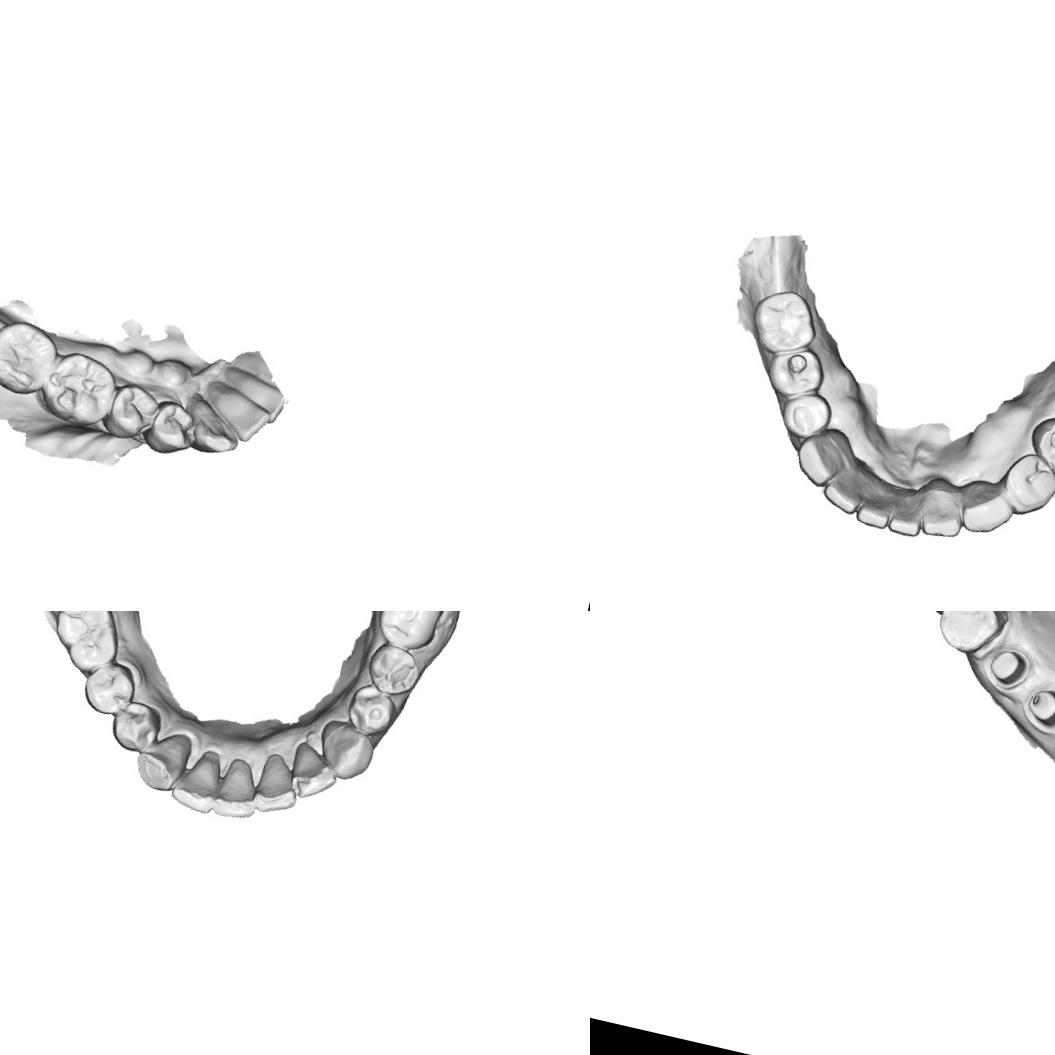abutment: (985, 645, 1030, 690), (1022, 683, 1055, 730)
canine: (130, 723, 196, 798), (177, 391, 248, 460), (310, 718, 382, 786), (956, 478, 1020, 541), (790, 428, 848, 492)
incisor: (166, 742, 232, 817), (210, 752, 269, 826), (283, 740, 345, 806), (250, 750, 308, 820), (216, 394, 274, 447), (818, 468, 868, 518), (919, 492, 967, 542), (248, 378, 291, 427), (853, 484, 897, 531), (886, 494, 928, 540)
molar: (34, 346, 122, 432), (745, 283, 825, 363), (41, 611, 128, 681), (0, 313, 63, 400), (368, 611, 453, 656)
premolar: (762, 340, 831, 405), (996, 447, 1055, 523), (77, 654, 142, 721), (139, 395, 204, 460), (102, 378, 164, 446), (361, 640, 426, 701), (340, 681, 402, 743), (104, 695, 166, 756), (932, 611, 1008, 660), (776, 386, 836, 444), (1023, 411, 1055, 477)
